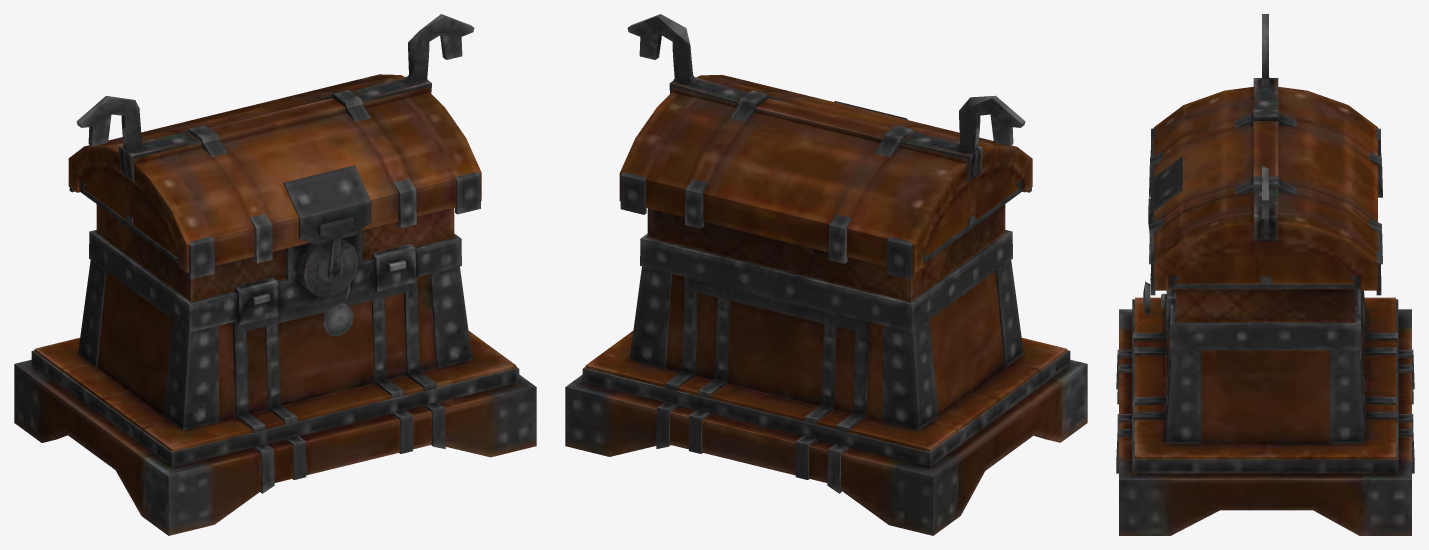
The model's file is PRP_Chest_Silver_lod.glb.
3 views of the same model, side by side, from view 1: azimuth 30°, elevation 25°; view 2: azimuth 150°, elevation 25°; view 3: azimuth 270°, elevation 25° (orthographic). The views are drawn at different scales.
Visible parts, largest first — view 1: defaultMaterial; view 2: defaultMaterial; view 3: defaultMaterial.
Part boxes in pixels (<box>): defaultMaterial: <box>14,14,536,535</box>; defaultMaterial: <box>565,14,1087,535</box>; defaultMaterial: <box>1116,14,1414,535</box>.
Bounding box in the file's own units: 2 × 1.83 × 1.38.
1 material, 1 textured.
